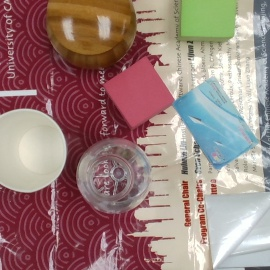bottle: (76, 139, 151, 213)
card: (173, 76, 259, 169)
chess: (43, 1, 138, 66)
cup: (1, 108, 67, 195)
